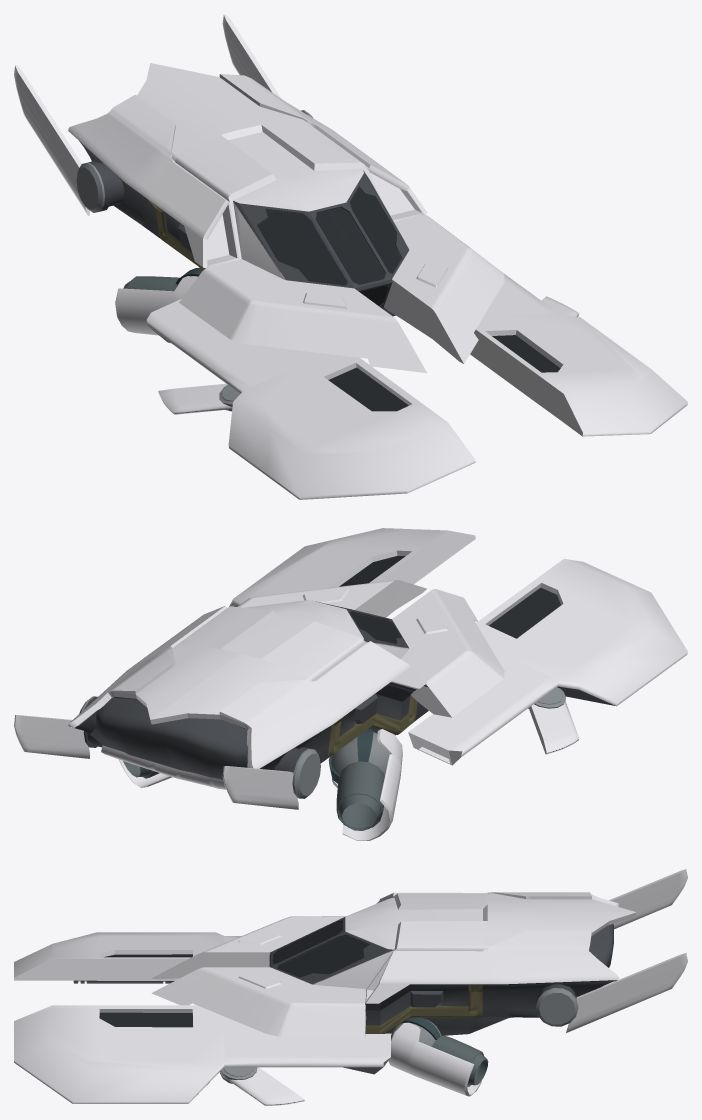
Rendered from relic_spaceship.fbx.
The picture shows the model from 3 angles, top to bottom: view 1: azimuth 30°, elevation 25°; view 2: azimuth 150°, elevation 25°; view 3: azimuth 270°, elevation 25°; orthographic projection. The views are drawn at different scales.
Parts seen in each view (by area): view 1: new_ship_merged:pPlane8; view 2: new_ship_merged:pPlane8; view 3: new_ship_merged:pPlane8.
Part boxes in pixels (left/top/right/bottom): new_ship_merged:pPlane8: left=14, top=14, right=687, bottom=499; new_ship_merged:pPlane8: left=14, top=528, right=687, bottom=840; new_ship_merged:pPlane8: left=14, top=869, right=687, bottom=1105.
Bounding box in the file's own units: 3.12 × 1.23 × 5.46.
Materials: 1 (1 with a texture image).
